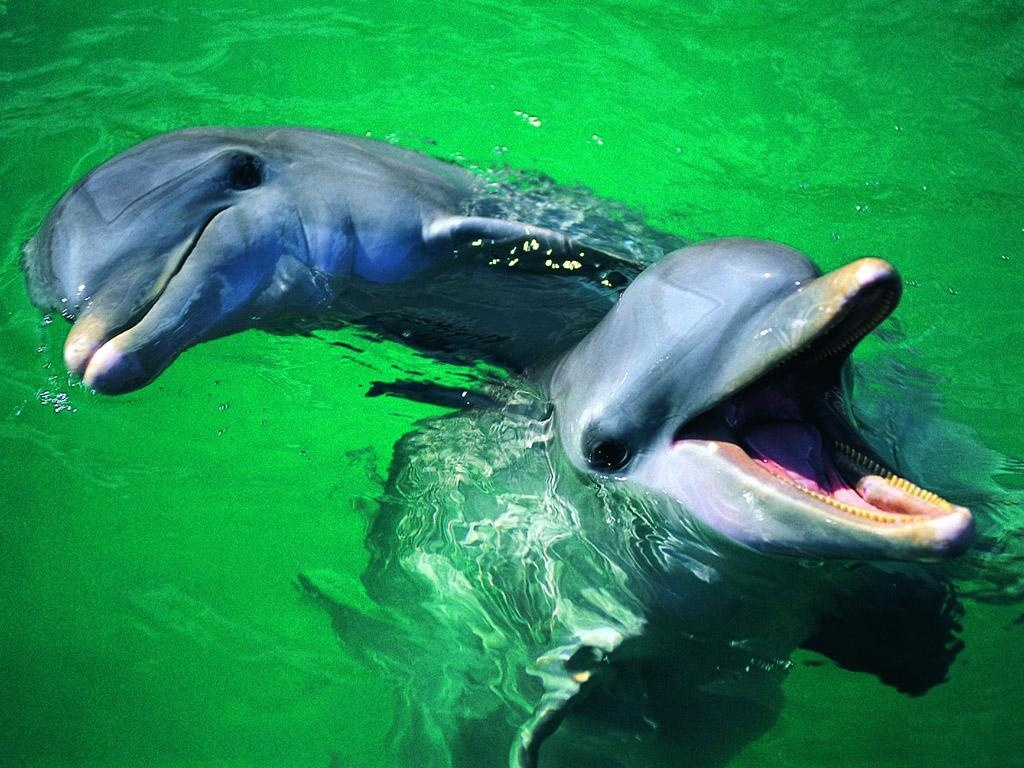fish: (360, 231, 965, 755), (25, 106, 649, 408)
